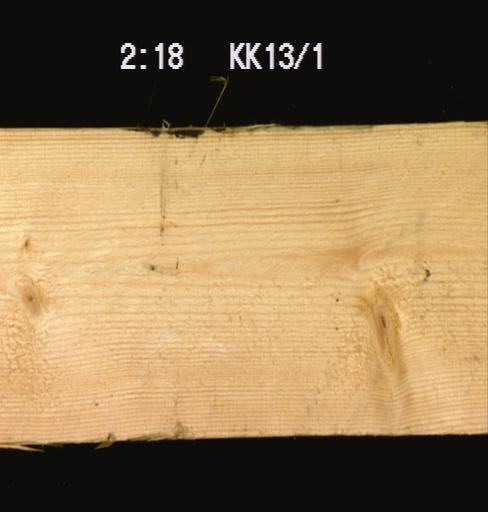small_knot: (11, 227, 40, 254)
sound_knot: (10, 272, 45, 324)
